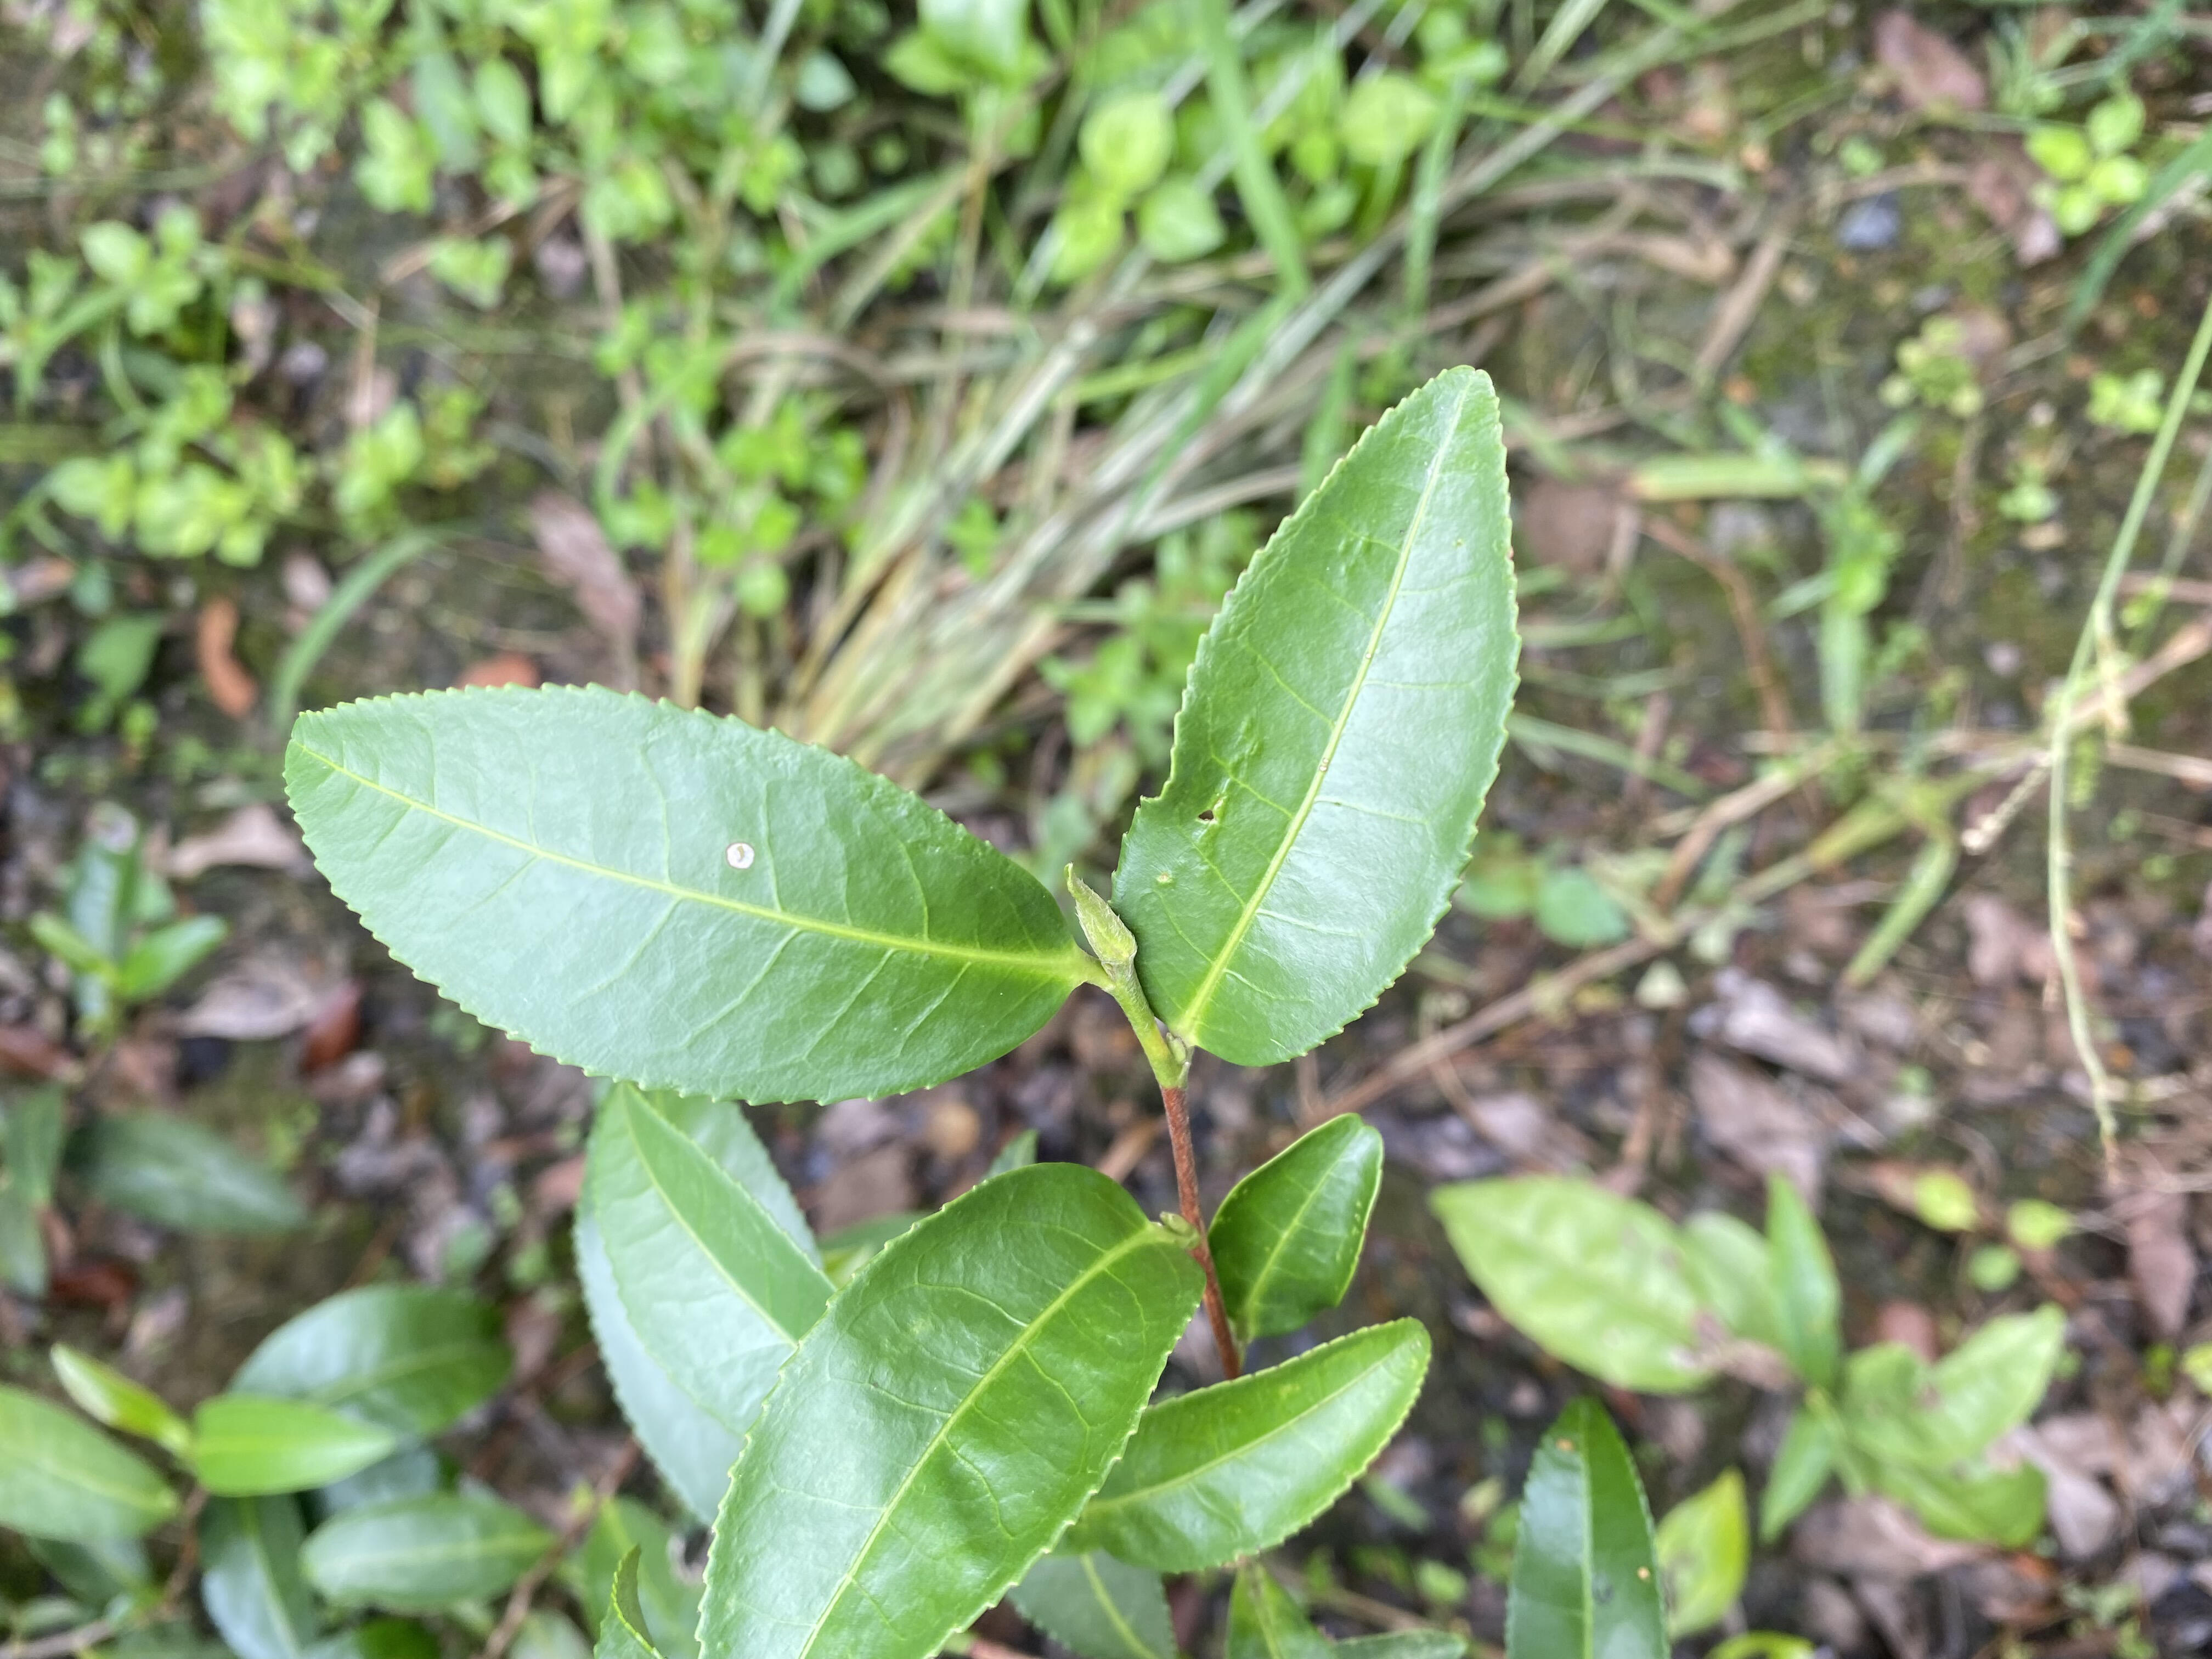healthy: (691, 1161, 1204, 1656), (1078, 1314, 1442, 1579), (587, 1084, 838, 1429), (1207, 1114, 1388, 1347)
tanju_low: (280, 678, 1076, 1107), (1496, 1394, 1677, 1657)
